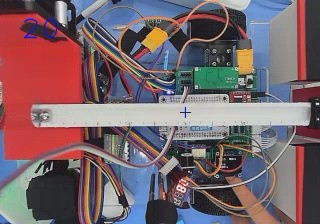ironball: (39, 109, 50, 121)
